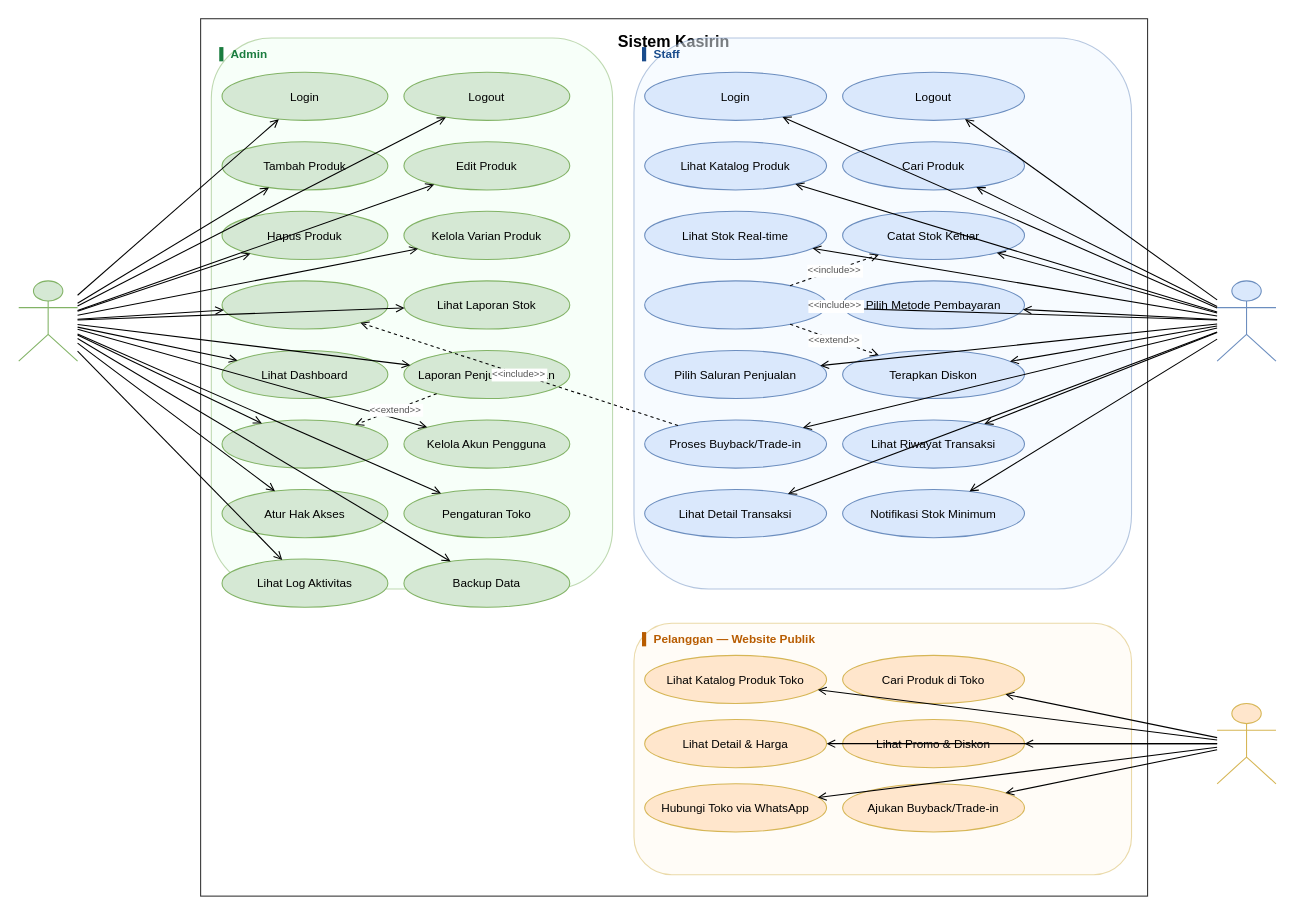
Image size: 1300x915. Some labels were removed from this diagram. The shapes that lost their labels are listed below. From the top down, each one's box as (x1, y1, x2, y2) in pixels, then its label:
(18, 280, 78, 361): Admin
(221, 280, 388, 329): Input Stok Masuk
(644, 280, 827, 329): Buat Transaksi Baru
(1216, 280, 1276, 361): Staff
(221, 419, 388, 468): Export Laporan PDF
(1216, 702, 1276, 784): Pelanggan
